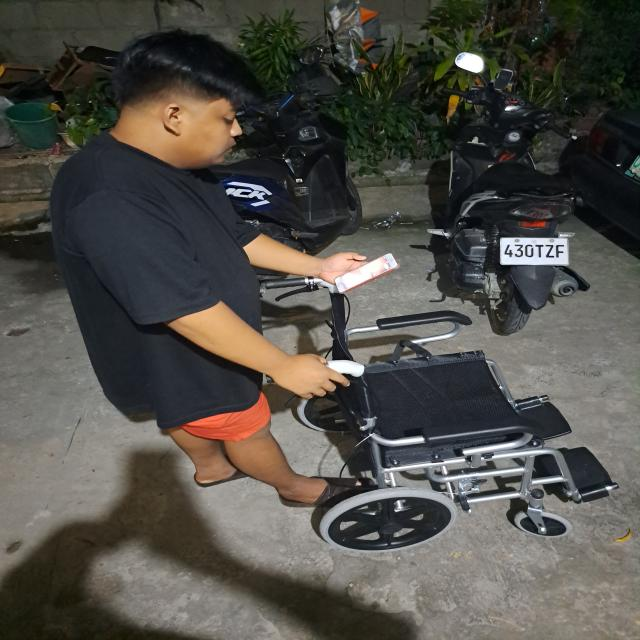wheelchairs: (270, 278, 622, 558)
